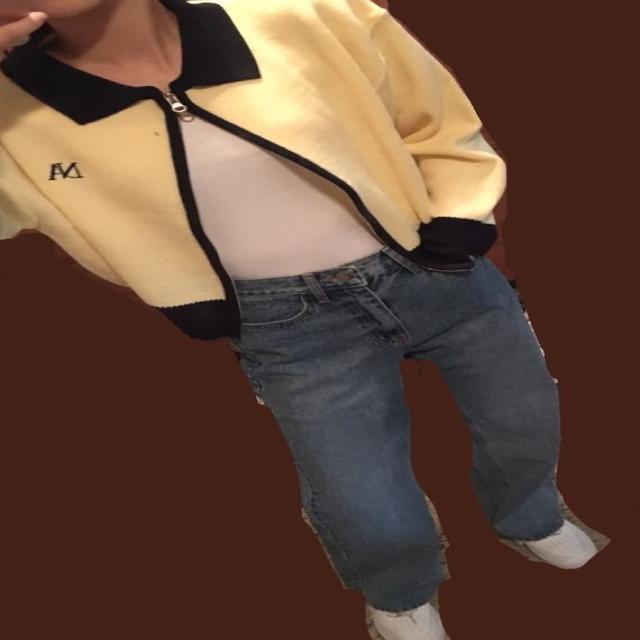cardigan: (0, 0, 512, 338)
denimpants: (215, 233, 568, 617)
